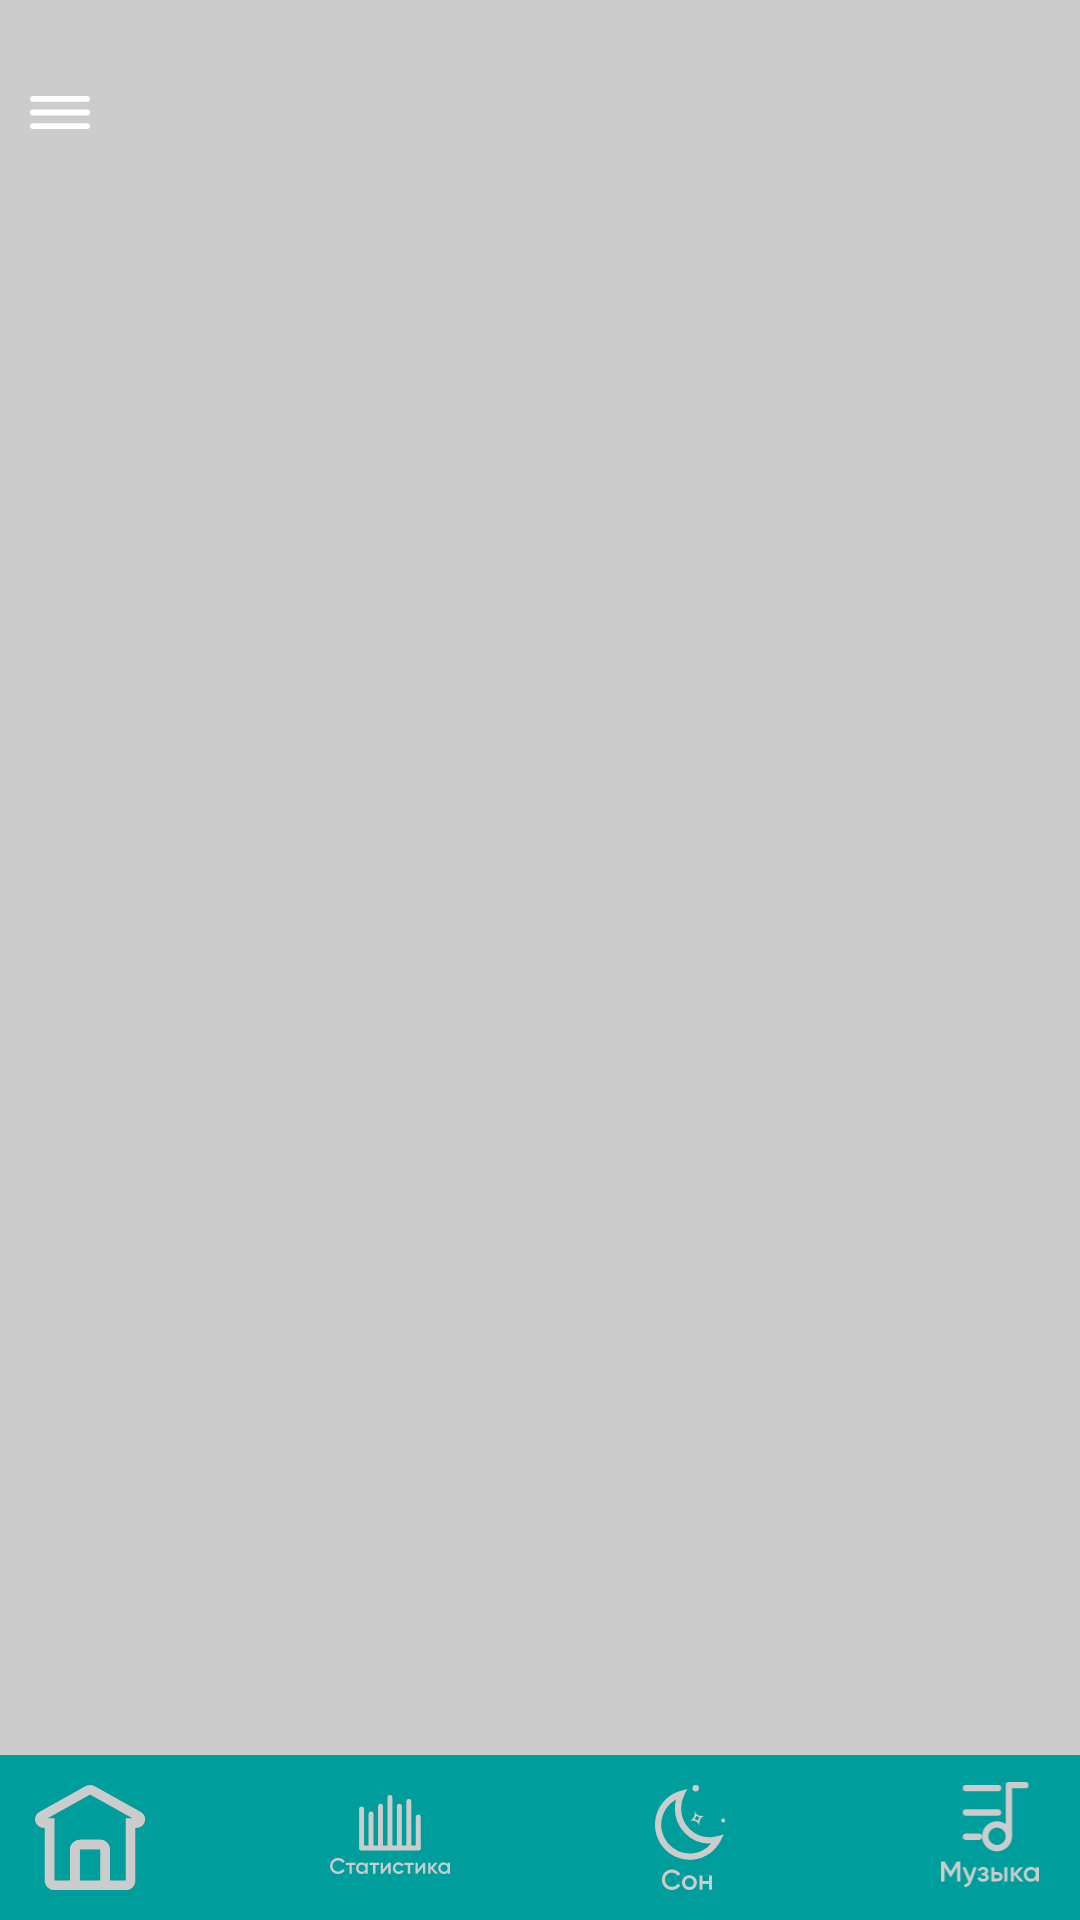

Locate icon controls on the screen. Image size 1080 × 1920, boxes as (x1, y1, x2, y2).
Burger: (30, 96, 90, 129)
Home: (35, 1785, 145, 1890)
